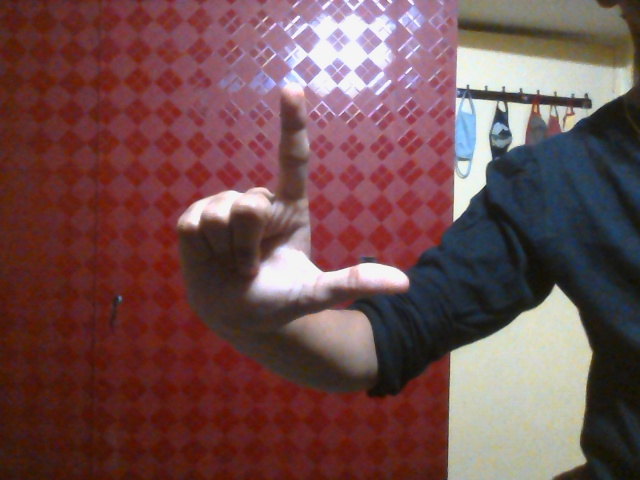L: (173, 82, 408, 320)
